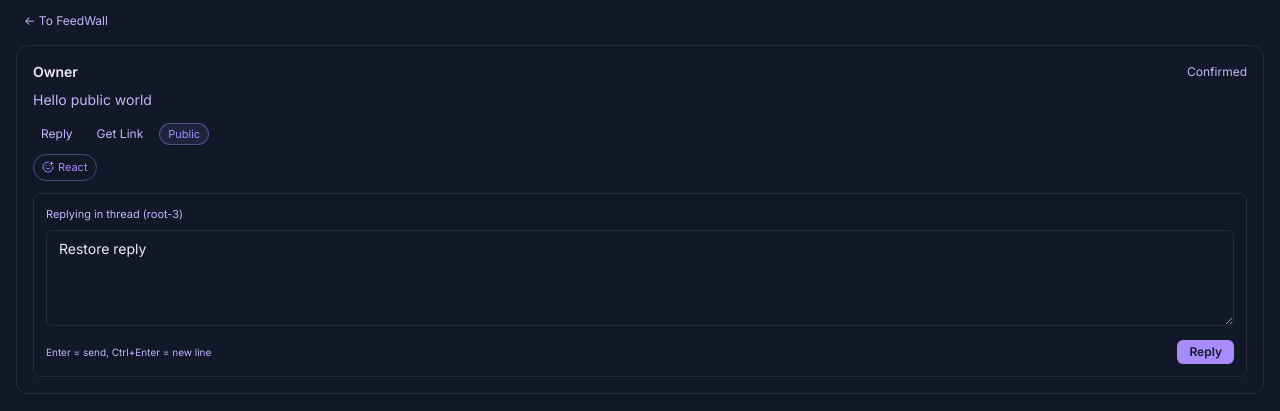
Test case: SocialPostPermalinkPage › resets an open threaded composer back to top-level when replying to the post
Expected: the element with test id "social-permalink-composer-top" is shown, [33,192,1247,377]
Expected: the text with test id "social-permalink-composer-context" reads "Replying in thread (root-3)", [46,206,183,220]
Click the button with test id "social-permalink-comment" at (57, 134), box [33,122,81,146]
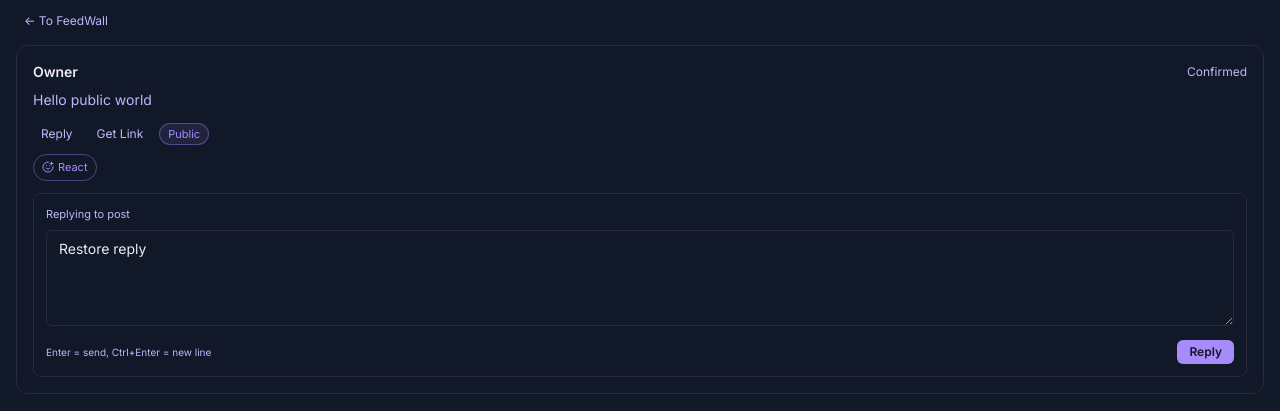
Expected: the text with test id "social-permalink-composer-context" reads "Replying to post", [46,206,130,220]
